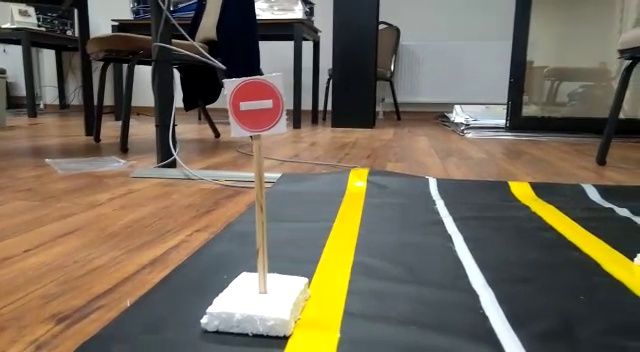girisi_olmayan_yol: (225, 76, 283, 131)
